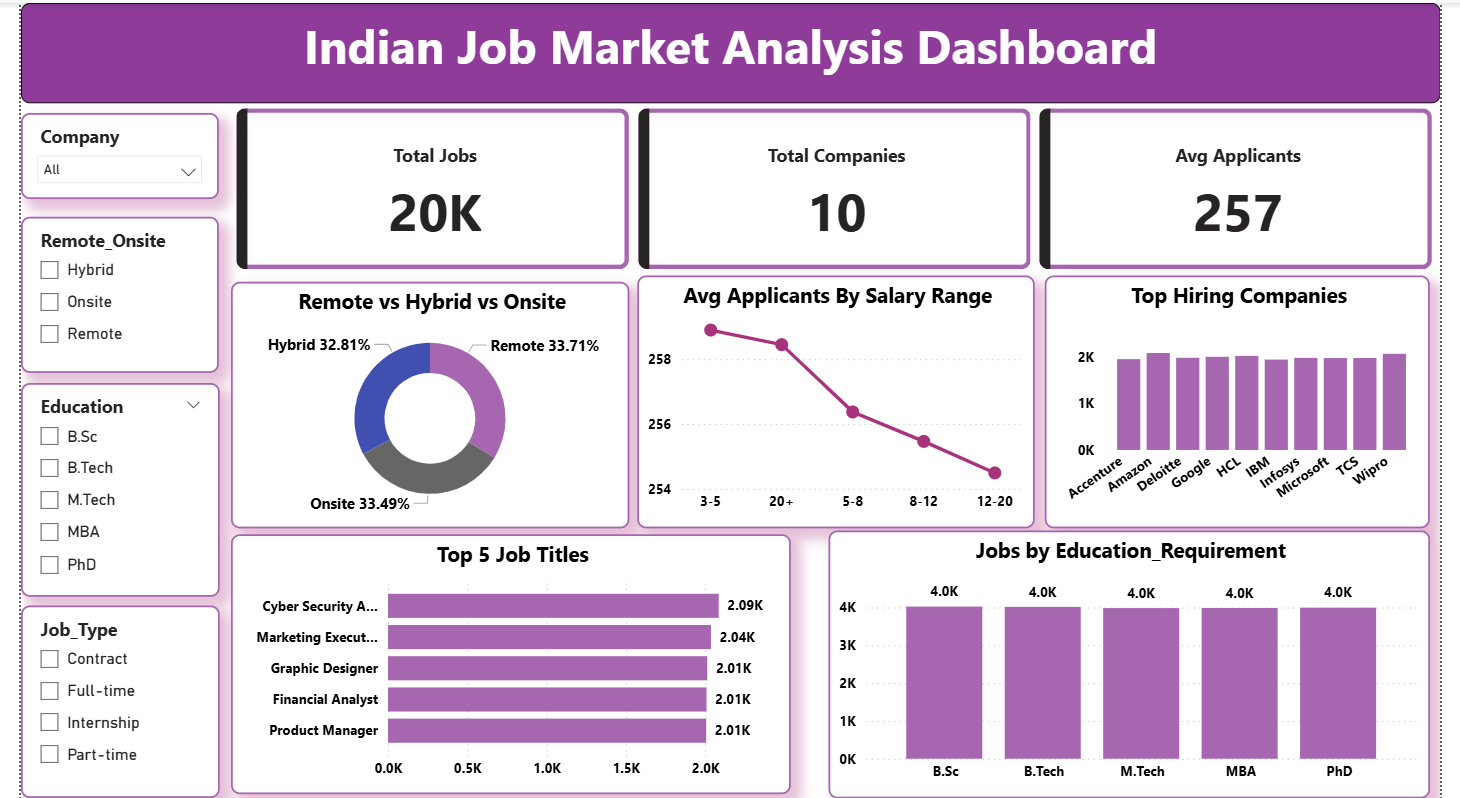

The page's visual inventory and layout, read from the dashboard file:
{"tool":"powerbi","page":{"name":"Dashboard","canvas":[1280,720],"ordinal":0},"visuals":[{"type":"textbox","box":[0,0,1280.3,90.6],"z":0},{"type":"slicer","fields":{"Values":["indian_job_market.remote_onsite"]},"box":[0,192.7,178.1,140.9],"z":1000},{"type":"slicer","fields":{"Values":["indian_job_market.education_requirement"]},"box":[0,342.6,179.2,192.7],"z":2000},{"type":"slicer","fields":{"Values":["indian_job_market.job_type"]},"box":[0,543.3,179.2,173.6],"z":3000},{"type":"cardVisual","fields":{"Data":["indian_job_market.Total Jobs","indian_job_market.Total Companies","indian_job_market.Avg Applicants"]},"box":[189.4,90.6,1090.9,155.1],"z":4000},{"type":"donutChart","title":"Remote vs Hybrid vs Onsite","fields":{"Y":["indian_job_market.Total Jobs"],"Category":["indian_job_market.remote_onsite"]},"box":[189.4,251.1,359.5,222.3],"z":5000},{"type":"lineChart","title":"Avg Applicants By Salary Range","fields":{"Category":["indian_job_market.salary_range.1"],"Y":["indian_job_market.Avg Applicants"]},"box":[555.7,245.7,358.4,227.7],"z":6000},{"type":"columnChart","title":"Top Hiring Companies","fields":{"Category":["indian_job_market.company_name"],"Y":["indian_job_market.Total Jobs"]},"box":[923.1,245.7,347.2,227.7],"z":7000},{"type":"clusteredBarChart","title":"Top 5 Job Titles","fields":{"Category":["indian_job_market.job_title"],"Y":["indian_job_market.Total Jobs"]},"box":[189.4,479,504.9,234.4],"z":8000},{"type":"columnChart","title":"Jobs by Education_Requirement","fields":{"Category":["indian_job_market.education_requirement"],"Y":["indian_job_market.Total Jobs"]},"box":[728.1,475.6,542.1,241.2],"z":9000},{"type":"slicer","fields":{"Values":["indian_job_market.company_name"]},"box":[0,99.2,178.1,77.8],"z":10000}]}

Visuals, with their boxes in screenshot pixels (x1, y1, x2, y2), scaled from the page's 1280x720 canvas onto the 1460x798 screenshot:
textbox: <bbox>0, 0, 1459, 100</bbox>
slicer - indian_job_market.remote_onsite: <bbox>0, 214, 203, 370</bbox>
slicer - indian_job_market.education_requirement: <bbox>0, 380, 204, 593</bbox>
slicer - indian_job_market.job_type: <bbox>0, 602, 204, 795</bbox>
cardVisual - indian_job_market.Total Jobs x indian_job_market.Total Companies: <bbox>216, 100, 1459, 272</bbox>
"Remote vs Hybrid vs Onsite" donutChart: <bbox>216, 278, 626, 525</bbox>
"Avg Applicants By Salary Range" lineChart: <bbox>634, 272, 1043, 525</bbox>
"Top Hiring Companies" columnChart: <bbox>1053, 272, 1449, 525</bbox>
"Top 5 Job Titles" clusteredBarChart: <bbox>216, 531, 792, 791</bbox>
"Jobs by Education_Requirement" columnChart: <bbox>830, 527, 1449, 794</bbox>
slicer - indian_job_market.company_name: <bbox>0, 110, 203, 196</bbox>
